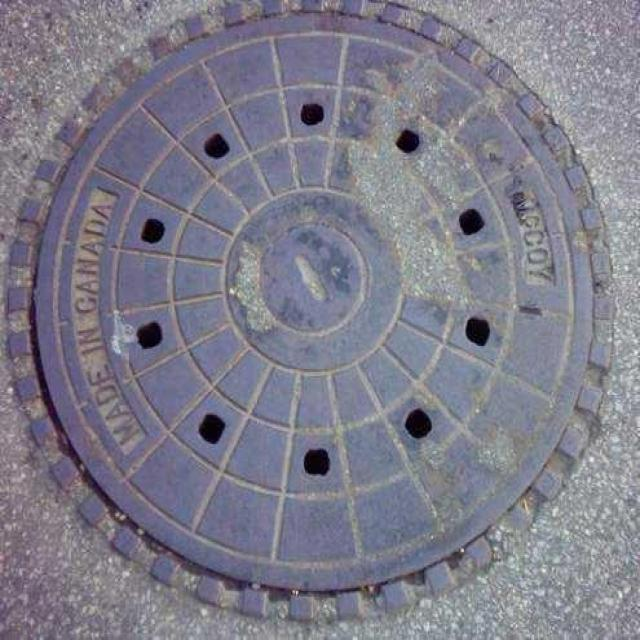manhole: (25, 6, 614, 620)
